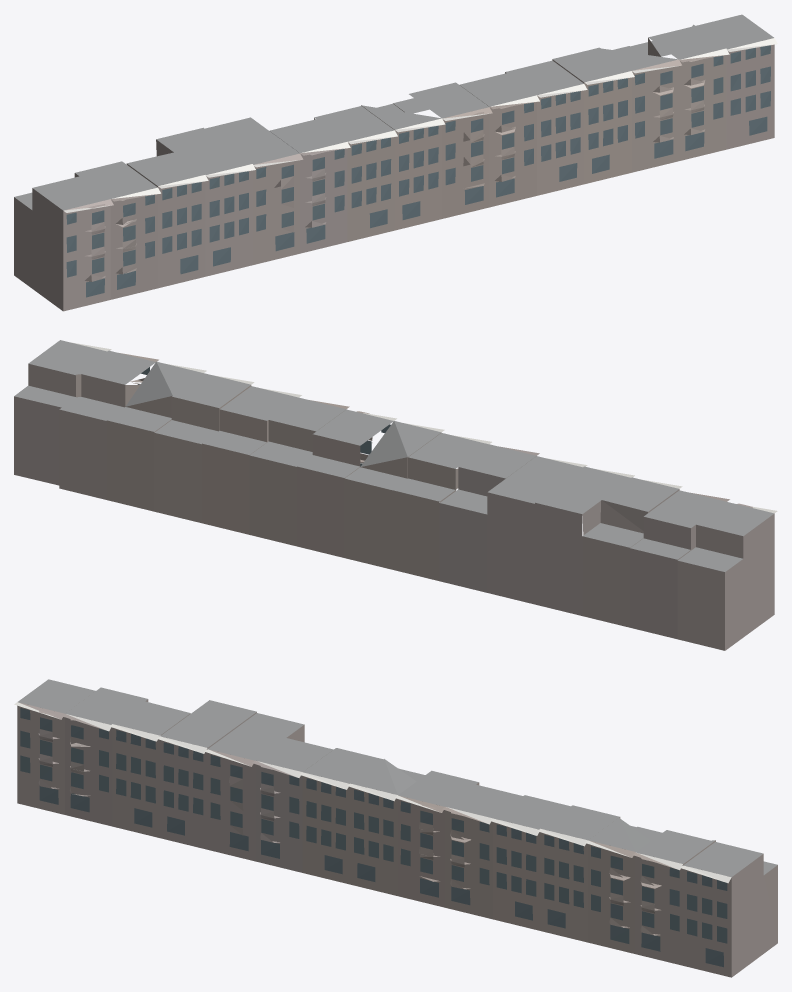
Rendered from chunk-face-boterdiep-6-34.lod2.glb.
The picture shows the model from 3 angles, top to bottom: view 1: azimuth 30°, elevation 25°; view 2: azimuth 150°, elevation 25°; view 3: azimuth 330°, elevation 25°; orthographic projection.
Visible parts, largest first — view 1: lod2; view 2: lod2; view 3: lod2.
Part boxes in pixels (x1,y1,x2,y2): lod2: (14,14,777,311); lod2: (14,340,777,650); lod2: (14,679,777,977).
Bounding box in the file's own units: 91.62 × 12.57 × 11.76.
